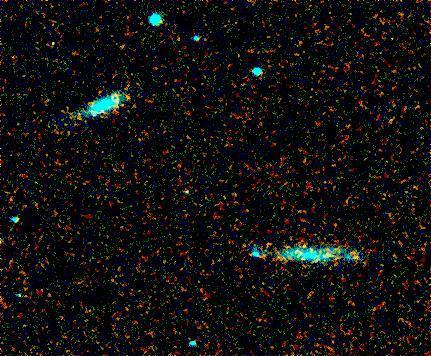star: (338, 240, 368, 270)
